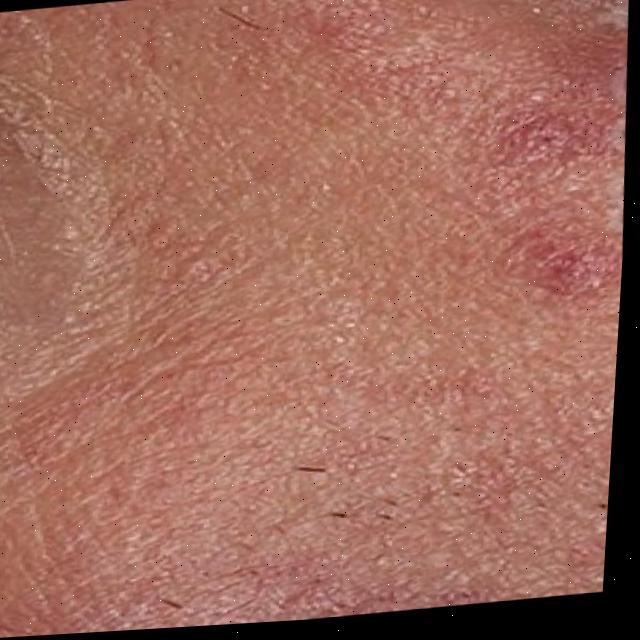Rosacea: (413, 0, 640, 303)
